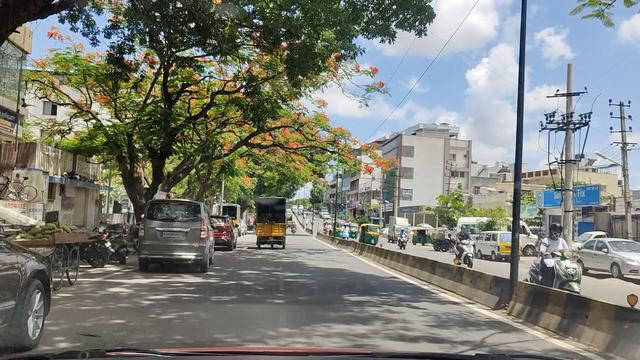HMV: (254, 191, 284, 247)
LMV: (130, 194, 206, 276)
